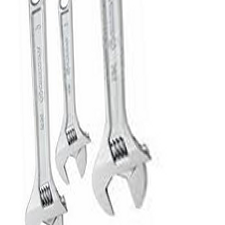Wrench: (84, 1, 162, 211), (9, 1, 72, 225), (48, 3, 102, 193)
